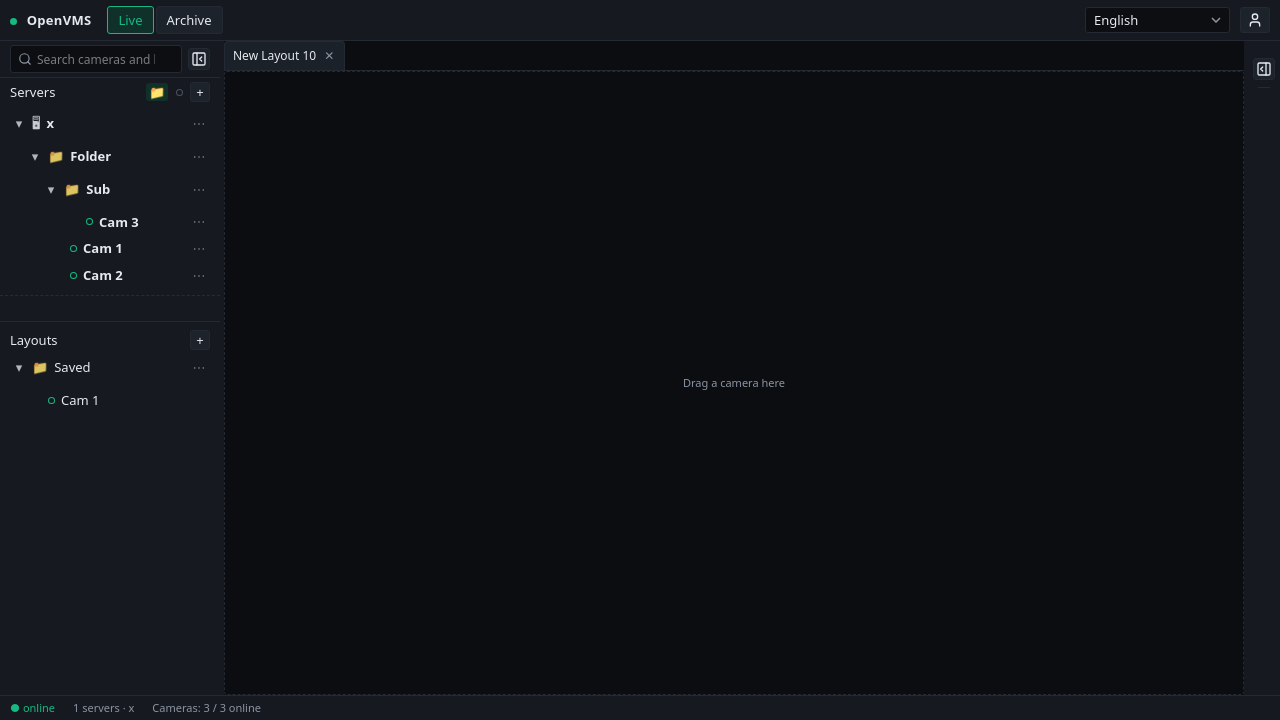
videowall parity on the Archive tab (spec 2026-10-18) › T3: camera drop on the Archive stage; a duplicate does not enter
Expected: the list with class "tree" is shown, [0,106,220,293]
Expected: the text "Cam 1" below "Cam 3" is shown, [83,239,123,257]
Click the button "Archive".
click(189, 20)  # box [156,6,223,34]
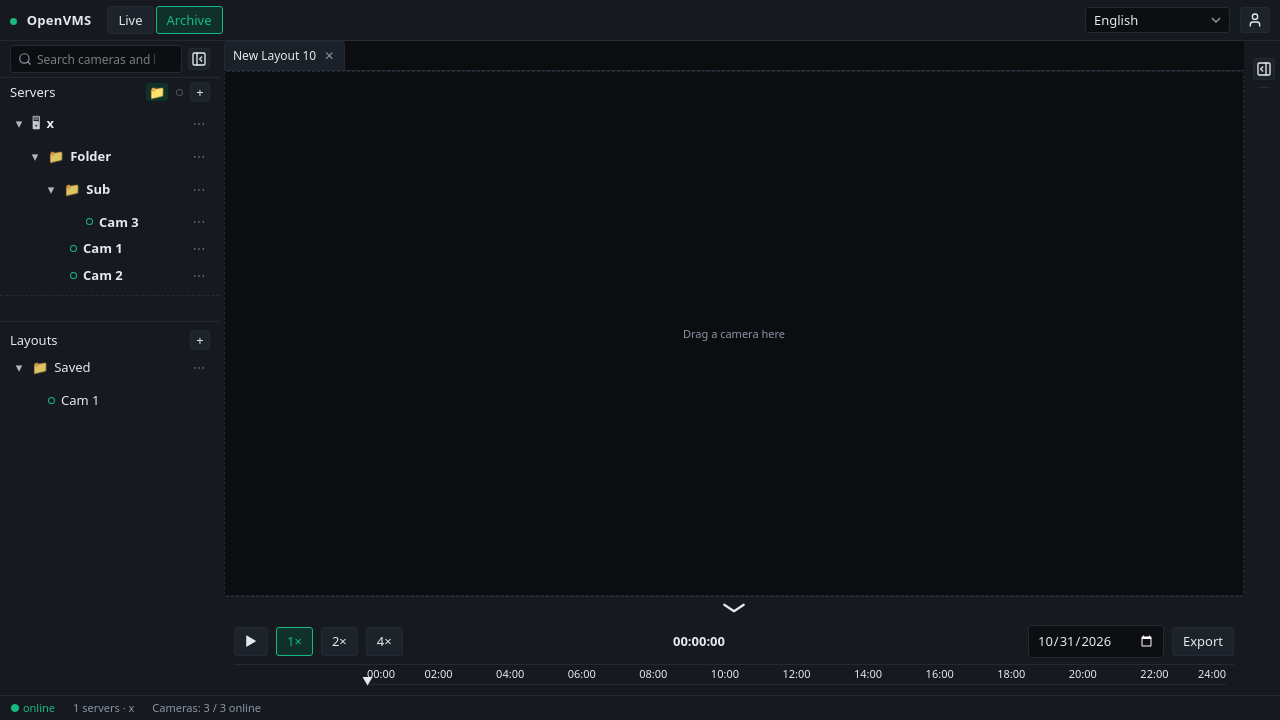
Now the element with class "arquivo-stage" is shown
